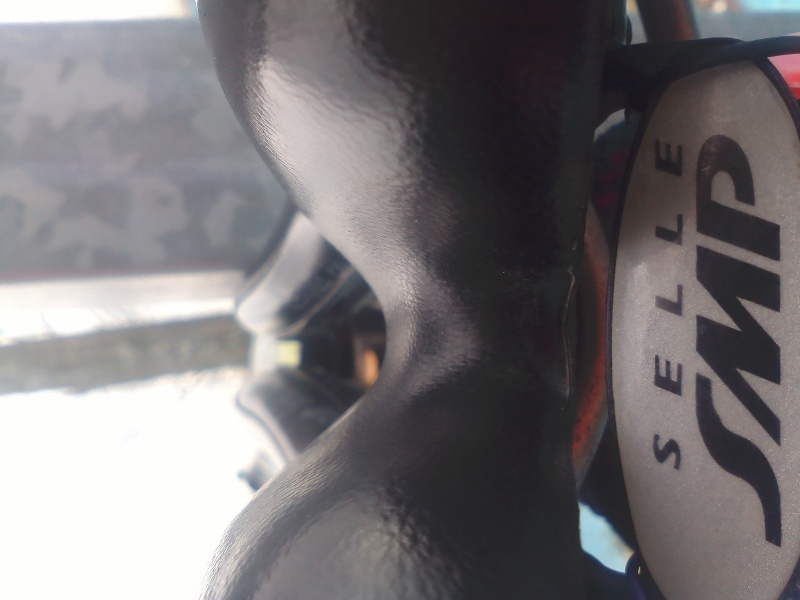text: (705, 125, 720, 551), (721, 125, 736, 551), (737, 125, 752, 551), (753, 125, 768, 551), (769, 125, 784, 551), (657, 133, 672, 478), (673, 133, 688, 478), (696, 125, 704, 551), (654, 133, 656, 478), (785, 125, 786, 551)
